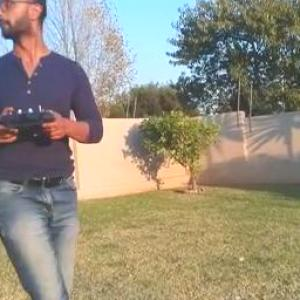follow: (1, 0, 109, 299)
